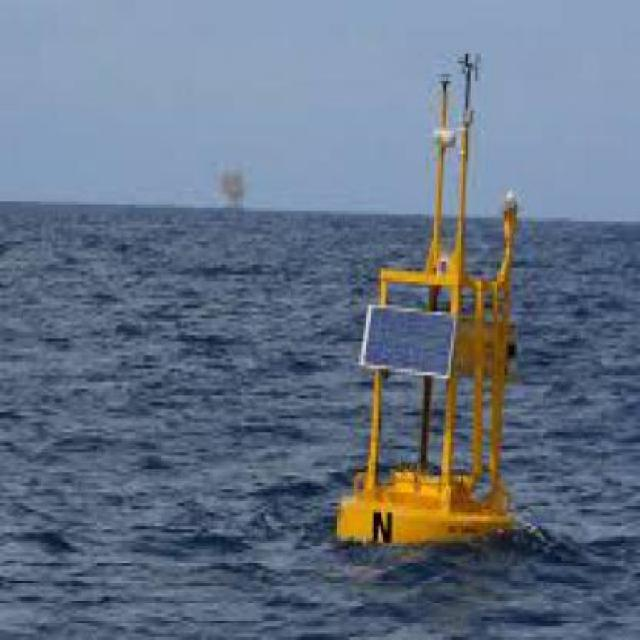buoy: (326, 44, 534, 561)
